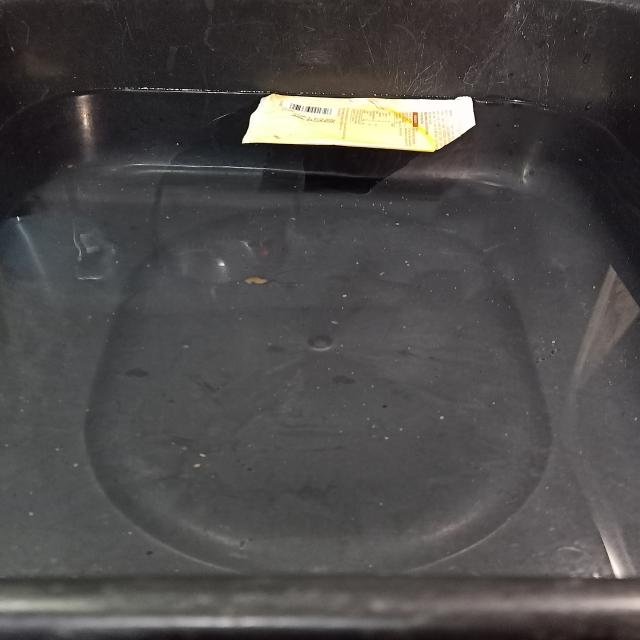Plastic Wrapper: (242, 94, 475, 152)
